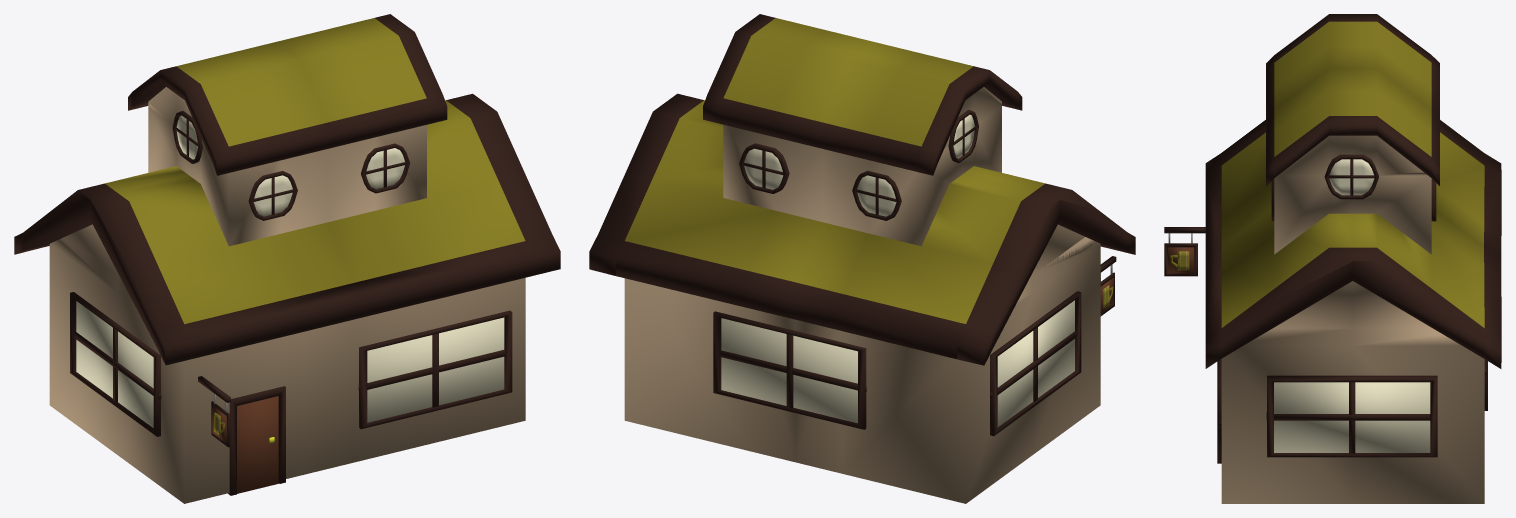
File: HanSolo.fbx
3 views of the same model, side by side, from view 1: azimuth 30°, elevation 25°; view 2: azimuth 150°, elevation 25°; view 3: azimuth 270°, elevation 25° (orthographic). The views are drawn at different scales.
Parts seen in each view (by area): view 1: Cube.004; view 2: Cube.004; view 3: Cube.004.
Part boxes in pixels (<box>): Cube.004: <box>14,14,560,503</box>; Cube.004: <box>589,14,1135,503</box>; Cube.004: <box>1164,14,1501,503</box>.
Bounding box in the file's own units: 1499 × 1323 × 1135.
